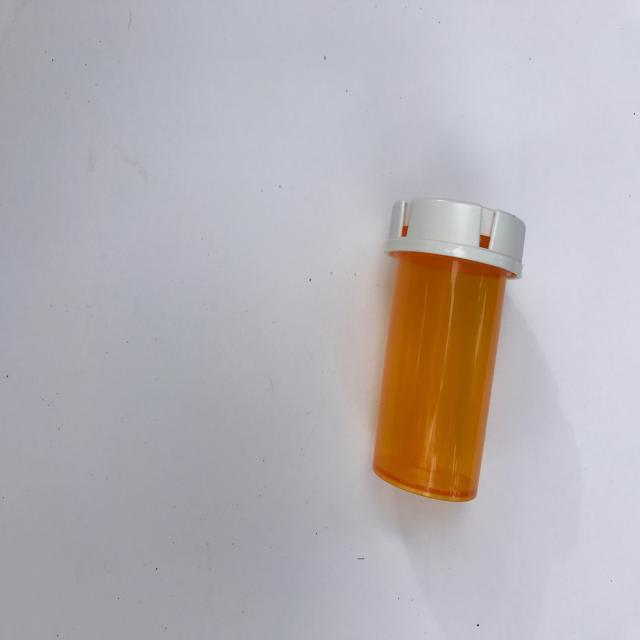plastic: (366, 184, 531, 508)
